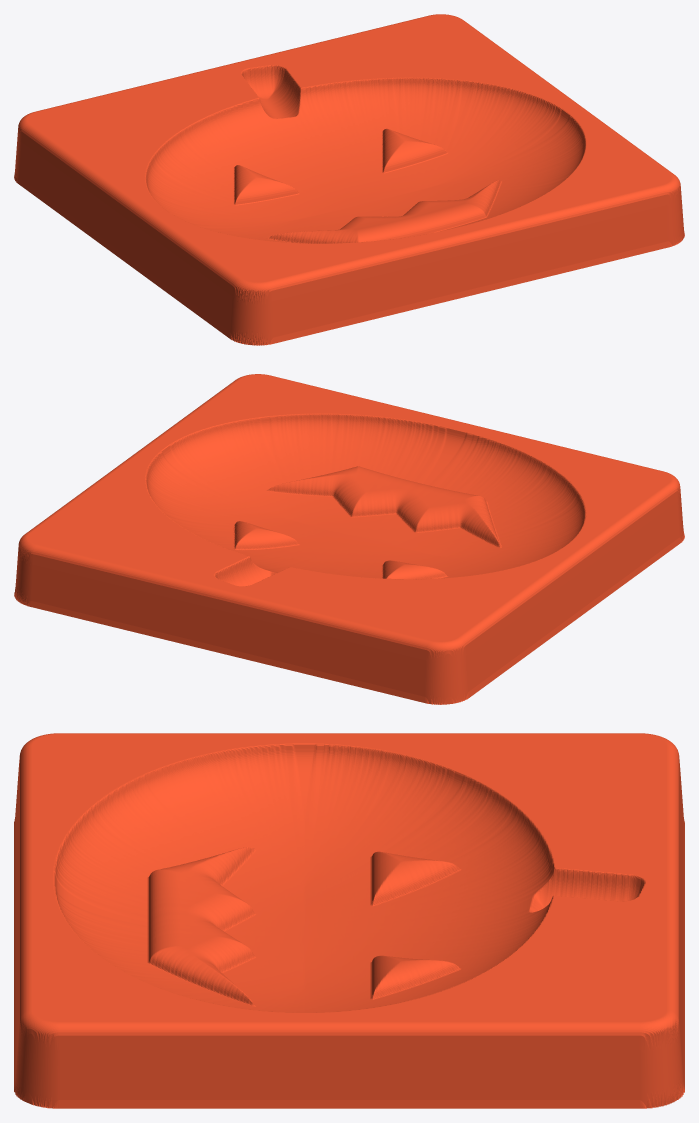
File: mold.glb
3 views of the same model, one above another, from view 1: azimuth 30°, elevation 25°; view 2: azimuth 150°, elevation 25°; view 3: azimuth 270°, elevation 25° (orthographic). The views are drawn at different scales.
Visible parts, largest first — view 1: geometry_0; view 2: geometry_0; view 3: geometry_0.
Part boxes in pixels (bbox=[...]): geometry_0: bbox=[14, 14, 684, 345]; geometry_0: bbox=[14, 374, 684, 704]; geometry_0: bbox=[14, 733, 684, 1108].
Size of the model in its own units: 0.1435 by 0.0175 by 0.1344.
